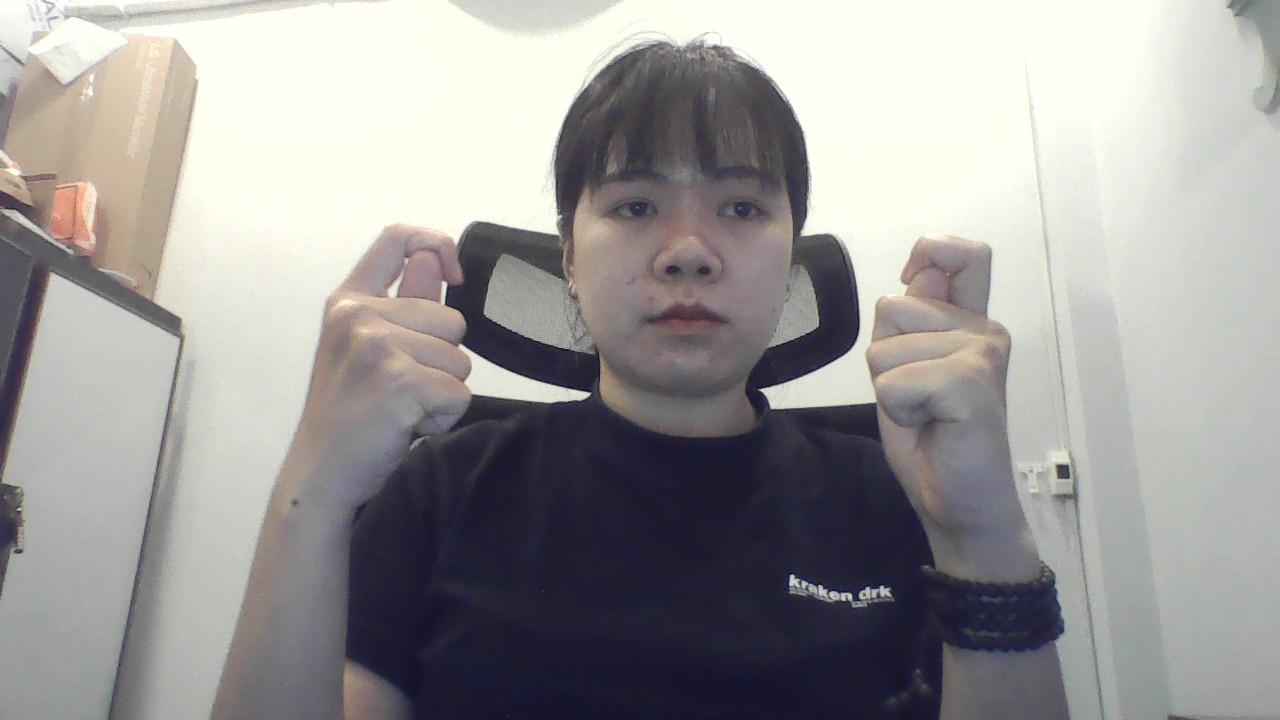X: (296, 221, 497, 503), (879, 221, 1022, 542)
